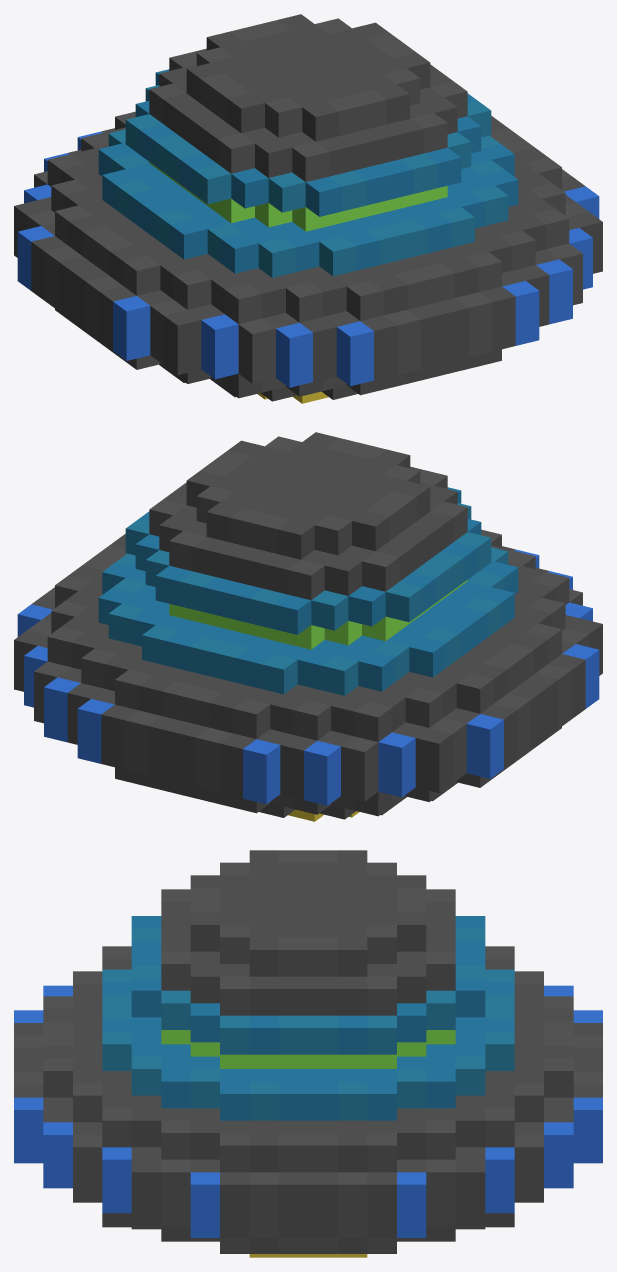
The model's file is flying_saucer.obj.
3 renders of one model, top to bottom at view 1: azimuth 30°, elevation 25°; view 2: azimuth 150°, elevation 25°; view 3: azimuth 270°, elevation 25°, orthographic. The views are drawn at different scales.
Parts seen in each view (by area): view 1: flying_saucer; view 2: flying_saucer; view 3: flying_saucer.
Part boxes in pixels (bbox=[...]): flying_saucer: bbox=[14, 14, 602, 403]; flying_saucer: bbox=[14, 432, 602, 821]; flying_saucer: bbox=[14, 850, 602, 1257].
Size of the model in its own units: 20 by 12 by 20.
1 material, 1 textured.
